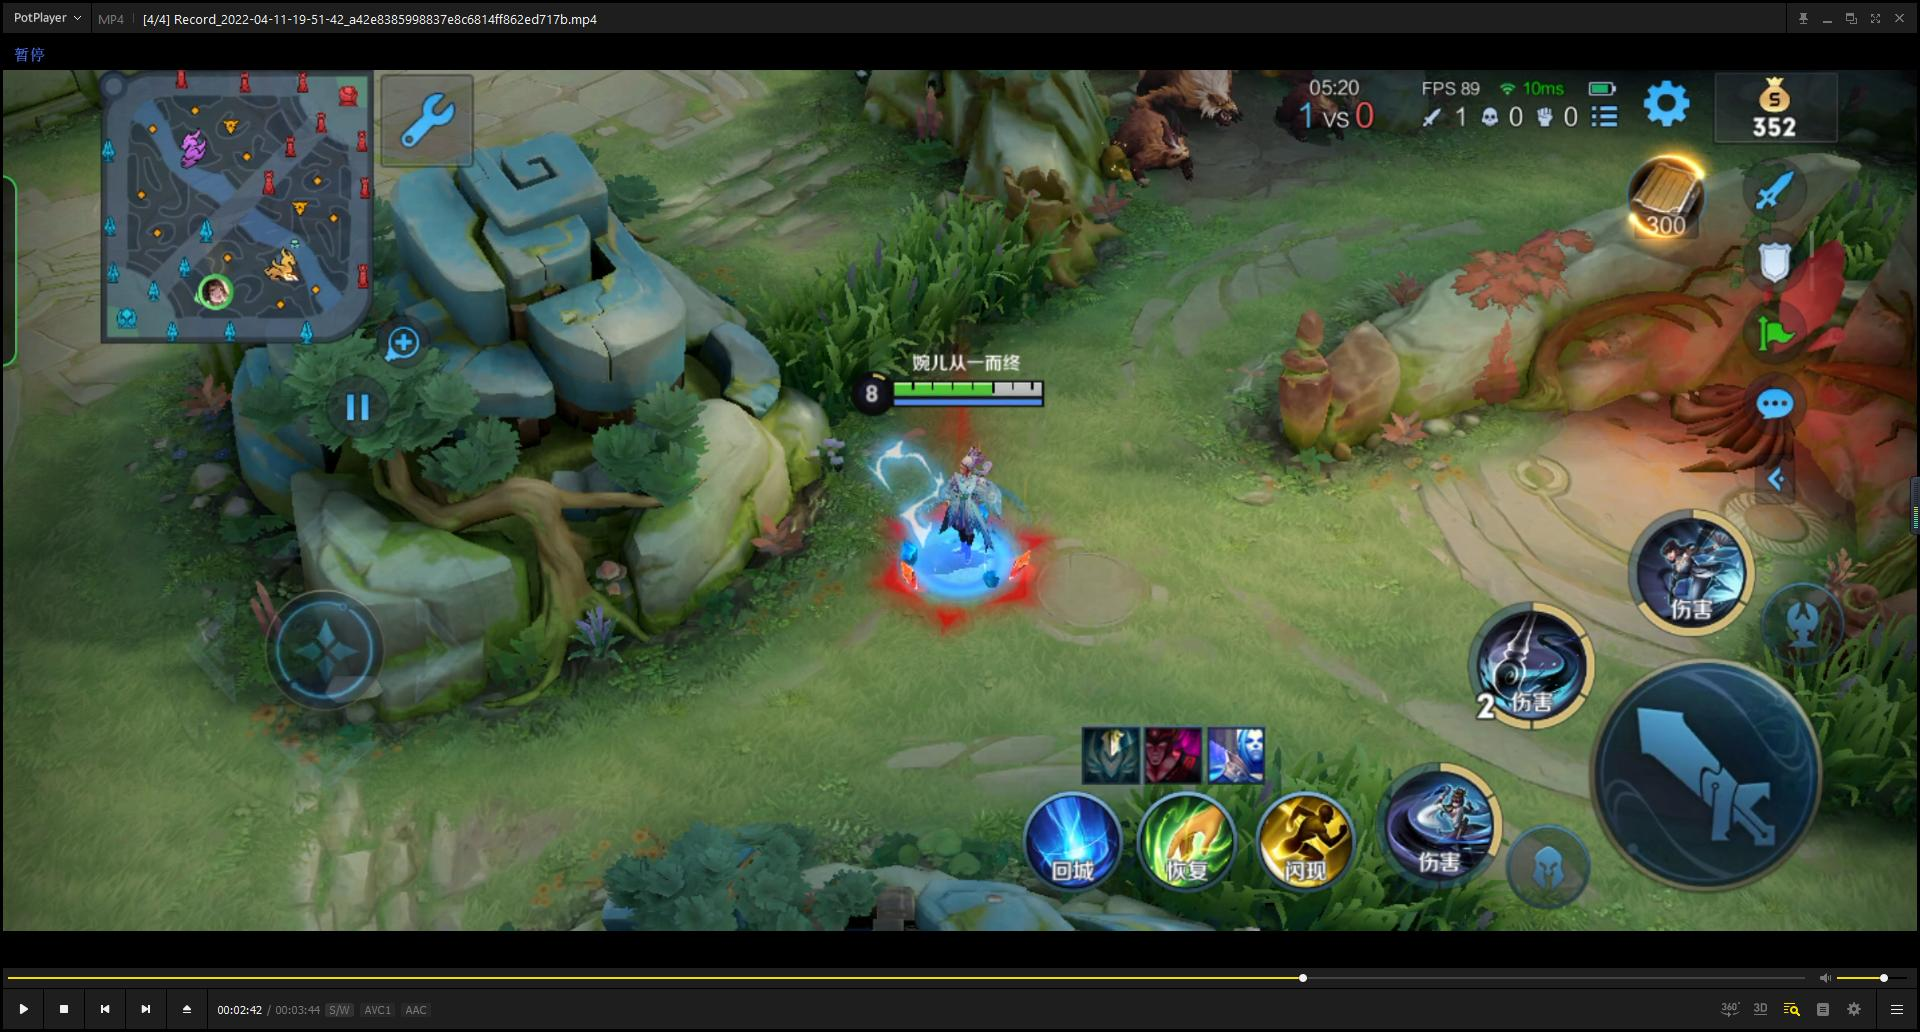Hero: (851, 431, 1100, 641)
Pig: (1083, 81, 1205, 217), (1122, 61, 1262, 132), (1266, 80, 1367, 153)
